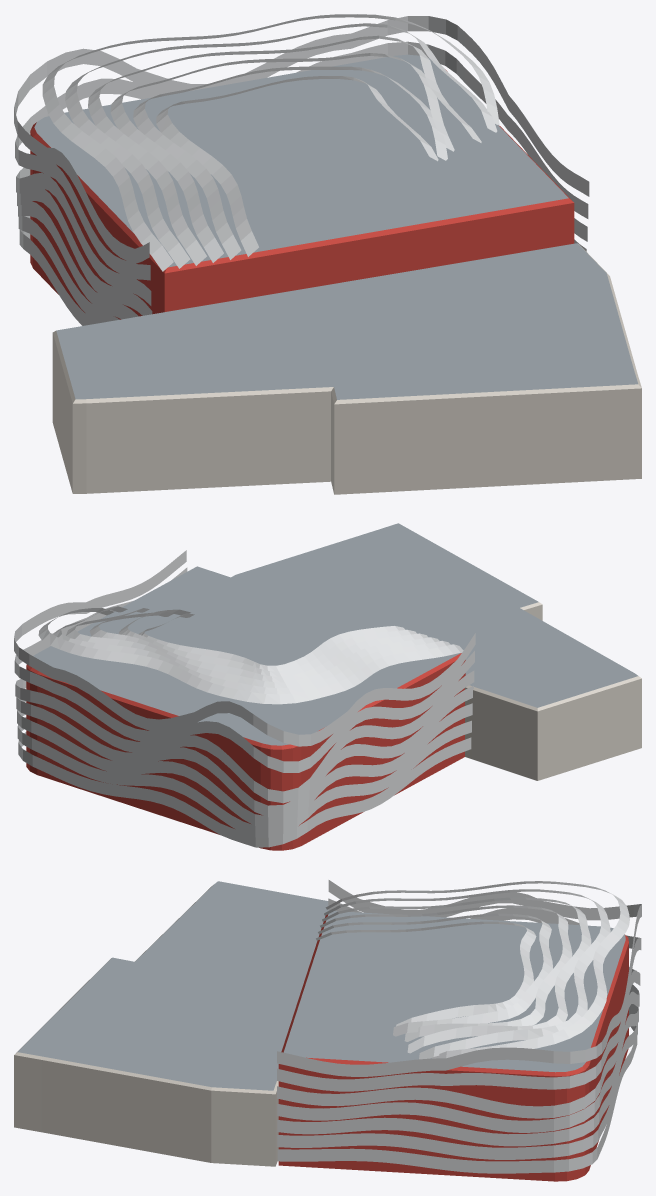
Rendered from detail.glb.
3 renders of one model, top to bottom at view 1: azimuth 30°, elevation 25°; view 2: azimuth 150°, elevation 25°; view 3: azimuth 270°, elevation 25°, orthographic. The views are drawn at different scales.
Parts seen in each view (by area): view 1: petersen-automotive-museum; view 2: petersen-automotive-museum; view 3: petersen-automotive-museum.
Boxes of the visible parts, bbox=[...] form: petersen-automotive-museum: bbox=[14, 14, 641, 494]; petersen-automotive-museum: bbox=[14, 523, 641, 850]; petersen-automotive-museum: bbox=[14, 880, 641, 1181].
Size of the model in its own units: 85.4 by 26.55 by 97.47.
